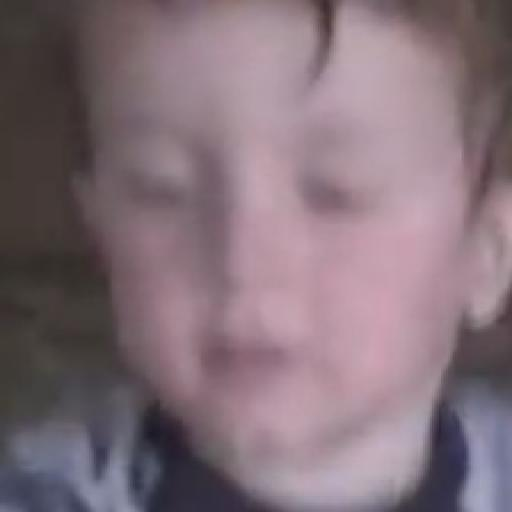Autism: (60, 27, 512, 512)
